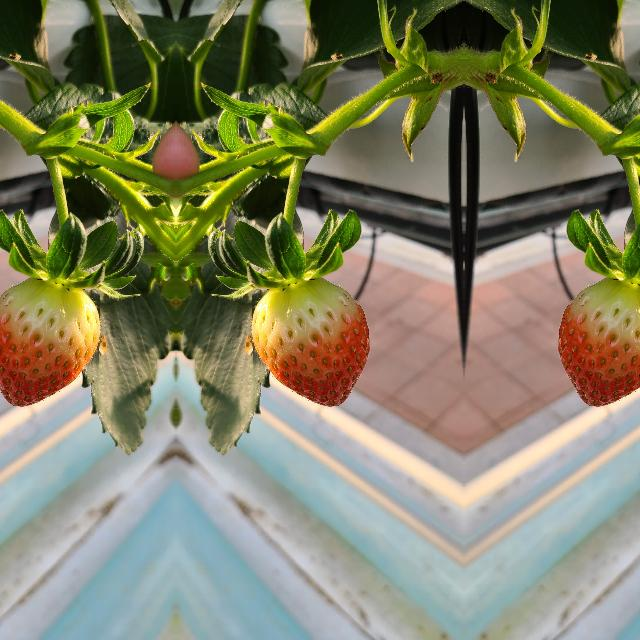Health_75: (250, 278, 368, 406), (0, 278, 100, 405), (558, 278, 640, 405)
